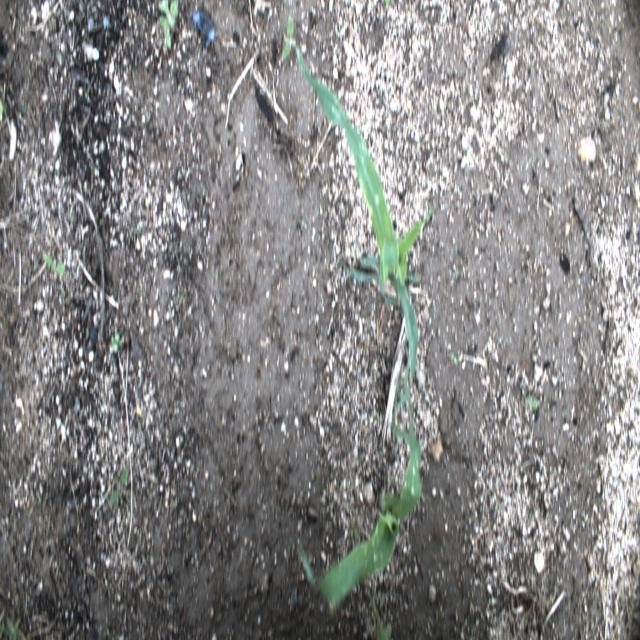crop: (296, 44, 438, 403), (298, 355, 422, 610), (369, 590, 391, 638)
weed: (155, 0, 178, 50), (110, 464, 132, 502), (280, 17, 296, 61), (44, 251, 66, 276), (6, 616, 21, 640), (110, 331, 124, 353), (524, 395, 538, 415), (349, 514, 359, 540), (0, 92, 5, 122), (450, 351, 458, 368), (300, 219, 307, 233), (385, 0, 390, 11)
